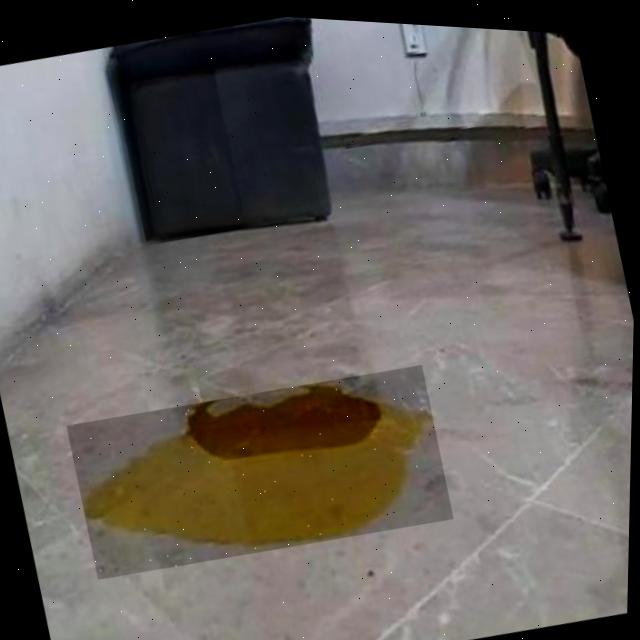spillage: (86, 382, 436, 545)
